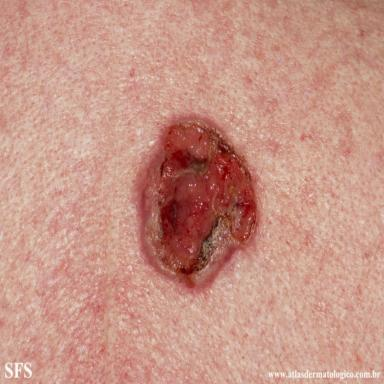basal-cell-carcinoma: (138, 114, 257, 292)
